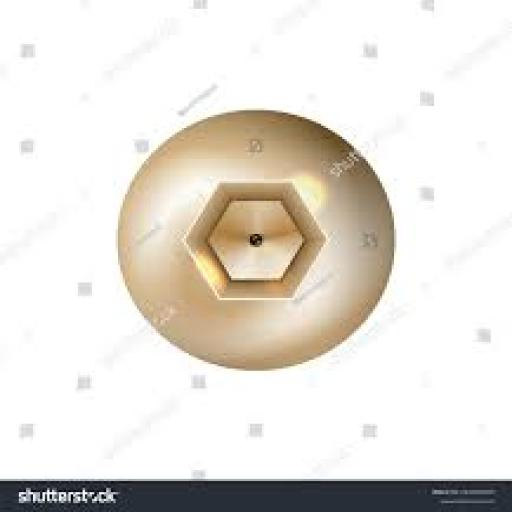Hex-Allen: (118, 108, 389, 374)
